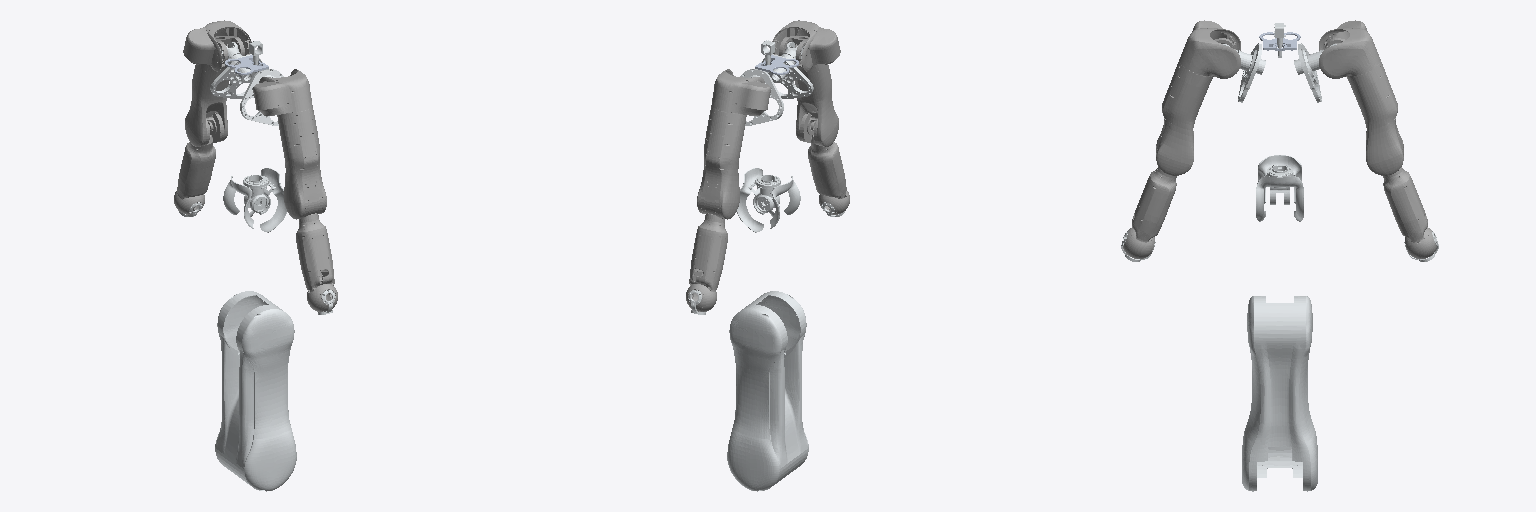
--- What the picture shows (computed from the rendered views, not written in the file) ---
Views: 3 orthographic renders of the robot side by side, from view 1: azimuth 30°, elevation 25°; view 2: azimuth 150°, elevation 25°; view 3: azimuth 270°, elevation 25°.
Robot: astribot_whole_body — 29 links, 28 joints (20 revolute, 8 fixed); root link astribot_torso_base; default pose: every joint at zero.
Visible links, largest first — view 1: astribot_torso_link_1, astribot_arm_right_link_3, astribot_arm_right_link_5, astribot_arm_left_link_3, astribot_torso_link_3, astribot_arm_left_link_2, astribot_arm_right_link_2, astribot_arm_left_link_5, astribot_arm_right_base_link, astribot_arm_left_base_link; view 2: astribot_torso_link_1, astribot_arm_left_link_3, astribot_arm_left_link_5, astribot_arm_right_link_3, astribot_torso_link_3, astribot_arm_right_link_2, astribot_arm_left_link_2, astribot_arm_right_link_5, astribot_arm_left_base_link, astribot_arm_right_base_link; view 3: astribot_torso_link_1, astribot_arm_left_link_3, astribot_arm_right_link_3, astribot_arm_left_link_2, astribot_arm_right_link_2, astribot_arm_left_link_5, astribot_arm_right_link_5, astribot_torso_link_3, astribot_arm_left_base_link, astribot_arm_right_base_link.
Boxes of the visible links, x1=… form: astribot_torso_link_1: x1=215, y1=291, x2=296, y2=491; astribot_arm_right_link_3: x1=277, y1=107, x2=326, y2=219; astribot_arm_right_link_5: x1=296, y1=219, x2=337, y2=310; astribot_arm_left_link_3: x1=185, y1=64, x2=229, y2=146; astribot_torso_link_3: x1=223, y1=168, x2=286, y2=232; astribot_arm_left_link_2: x1=183, y1=20, x2=251, y2=71; astribot_arm_right_link_2: x1=253, y1=69, x2=312, y2=115; astribot_arm_left_link_5: x1=174, y1=142, x2=215, y2=213; astribot_arm_right_base_link: x1=240, y1=69, x2=283, y2=125; astribot_arm_left_base_link: x1=210, y1=54, x2=261, y2=98; astribot_torso_link_1: x1=727, y1=291, x2=808, y2=491; astribot_arm_left_link_3: x1=697, y1=107, x2=746, y2=219; astribot_arm_left_link_5: x1=686, y1=219, x2=727, y2=310; astribot_arm_right_link_3: x1=794, y1=64, x2=838, y2=146; astribot_torso_link_3: x1=737, y1=168, x2=800, y2=232; astribot_arm_right_link_2: x1=772, y1=20, x2=840, y2=71; astribot_arm_left_link_2: x1=711, y1=69, x2=770, y2=115; astribot_arm_right_link_5: x1=808, y1=142, x2=849, y2=213; astribot_arm_left_base_link: x1=740, y1=69, x2=783, y2=125; astribot_arm_right_base_link: x1=762, y1=54, x2=813, y2=98; astribot_torso_link_1: x1=1242, y1=296, x2=1317, y2=491; astribot_arm_left_link_3: x1=1346, y1=60, x2=1403, y2=175; astribot_arm_right_link_3: x1=1156, y1=60, x2=1213, y2=175; astribot_arm_left_link_2: x1=1319, y1=20, x2=1380, y2=78; astribot_arm_right_link_2: x1=1179, y1=20, x2=1240, y2=78; astribot_arm_left_link_5: x1=1383, y1=169, x2=1434, y2=258; astribot_arm_right_link_5: x1=1125, y1=169, x2=1176, y2=258; astribot_torso_link_3: x1=1256, y1=155, x2=1303, y2=221; astribot_arm_left_base_link: x1=1298, y1=43, x2=1321, y2=102; astribot_arm_right_base_link: x1=1238, y1=43, x2=1261, y2=102.
Size in the robot's own frame: 0.1943 by 0.8328 by 1.34 metres.
Meshes: 18 distinct files referenced, 20 mesh visuals loaded (14 binary STL); not drawn: 4 (reference not matched to a file when rendering).

URDF robot description (astribot_whole_body):
<?xml version="1.0" ?>
<!-- =================================================================================== -->
<!-- |    This document was autogenerated by xacro from astribot_s1_whole_body_without_wheel.xacro | -->
<!-- |    EDITING THIS FILE BY HAND IS NOT RECOMMENDED                                 | -->
<!-- =================================================================================== -->
<!-- run: xacro astribot_s1_whole_body.xacro -o astribot_s1_whole_body.urdf to generate the following .urdf file -->
<robot name="astribot_whole_body">
  <link name="astribot_torso_base">
    <inertial>
      <origin rpy="0 0 0" xyz="-0.062784 0.007017 0.035375"/>
      <mass value="39.24781"/>
      <inertia ixx="1.071997" ixy="0.015889" ixz="-0.058447" iyy="1.218431" iyz="-0.002015" izz="1.489411"/>
    </inertial>
    <visual>
      <origin rpy="0 0 0" xyz="0 0 0"/>
      <geometry>
        <mesh filename="s1_torso/astribot_torso_base_link.STL"/>
      </geometry>
      <material name="">
        <color rgba="0.79216 0.81961 0.93333 1"/>
      </material>
    </visual>
    <collision>
      <origin rpy="0 0 0" xyz="0 0 -0.05"/>
      <geometry>
        <cylinder length="0.1" radius="0.3"/>
      </geometry>
    </collision>
  </link>
  <link name="astribot_torso_link_1">
    <inertial>
      <origin rpy="0 0 0" xyz="-0.15249 0.00021066 -0.0033476"/>
      <mass value="7.3766"/>
      <inertia ixx="0.028834" ixy="-0.0052759" ixz="0.00010767" iyy="0.1483" iyz="1.1652E-05" izz="0.14268"/>
    </inertial>
    <visual>
      <origin rpy="0 0 0" xyz="0 0 0"/>
      <geometry>
        <mesh filename="s1_torso/astribot_torso_link_1.STL"/>
      </geometry>
      <material name="">
        <color rgba="0.89804 0.91765 0.92941 1"/>
      </material>
    </visual>
    <collision>
      <origin rpy="0 1.57 0" xyz="-0.15 0 0"/>
      <geometry>
        <cylinder length="0.3" radius="0.1"/>
      </geometry>
    </collision>
  </link>
  <joint name="astribot_torso_joint_1" type="revolute">
    <origin rpy="-1.5708 1.5708 0" xyz="0 0 0.12"/>
    <parent link="astribot_torso_base"/>
    <child link="astribot_torso_link_1"/>
    <axis xyz="0 0 1"/>
    <limit effort="100" lower="0.0" upper="1.4" velocity="6.0"/>
  </joint>
  <link name="astribot_torso_link_2">
    <inertial>
      <origin rpy="0 0 0" xyz="-0.22214 0.028873 0.00059024"/>
      <mass value="5.6183"/>
      <inertia ixx="0.0082545" ixy="0.0011523" ixz="0.00035614" iyy="0.012677" iyz="-5.8287E-05" izz="0.017512"/>
    </inertial>
    <visual>
      <origin rpy="0 0 0" xyz="0 0 0"/>
      <geometry>
        <mesh filename="s1_torso/astribot_torso_link_2.STL"/>
      </geometry>
      <material name="">
        <color rgba="0.89804 0.91765 0.92941 1"/>
      </material>
    </visual>
    <collision>
      <origin rpy="0 1.57 -0.25" xyz="-0.15 0.03 0"/>
      <geometry>
        <cylinder length="0.3" radius="0.1"/>
      </geometry>
    </collision>
  </link>
  <joint name="astribot_torso_joint_2" type="revolute">
    <origin rpy="0 0 0" xyz="-0.38 0 0"/>
    <parent link="astribot_torso_link_1"/>
    <child link="astribot_torso_link_2"/>
    <axis xyz="0 0 1"/>
    <limit effort="100" lower="-2.3" upper="0.0" velocity="6.0"/>
  </joint>
  <link name="astribot_torso_link_3">
    <inertial>
      <origin rpy="0 0 0" xyz="-0.017519 0.00059523 0.00025821"/>
      <mass value="0.49013"/>
      <inertia ixx="0.00022212" ixy="-2.6767E-07" ixz="4.3987E-07" iyy="0.00036522" iyz="3.8834E-07" izz="0.00038039"/>
    </inertial>
    <visual>
      <origin rpy="0 0 0" xyz="0 0 0"/>
      <geometry>
        <mesh filename="s1_torso/astribot_torso_link_3.STL"/>
      </geometry>
      <material name="">
        <color rgba="0.89804 0.91765 0.92941 1"/>
      </material>
    </visual>
    <collision>
      <origin rpy="0 1.57 0" xyz="-0.18 0.01 0"/>
      <geometry>
        <cylinder length="0.35" radius="0.09"/>
      </geometry>
    </collision>
  </link>
  <joint name="astribot_torso_joint_3" type="revolute">
    <origin rpy="0 0 0" xyz="-0.390 0 0"/>
    <parent link="astribot_torso_link_2"/>
    <child link="astribot_torso_link_3"/>
    <axis xyz="0 0 1"/>
    <limit effort="100" lower="0.0" upper="2.3" velocity="6.0"/>
  </joint>
  <link name="astribot_torso_link_4">
    <inertial>
      <origin rpy="0 0 0" xyz="0.00476227191516749 -4.56966810241128E-05 0.242912573510671"/>
      <mass value="3.55695635704638"/>
      <inertia ixx="0.0165768322563514" ixy="-9.94098112646385E-06" ixz="-0.000100011483384926" iyy="0.014904355097835" iyz="9.86752047032885E-07" izz="0.0110629318711333"/>
    </inertial>
    <visual>
      <origin rpy="0 0 0" xyz="0 0 0"/>
      <geometry>
        <mesh filename="s1_torso/astribot_torso_link_4.STL"/>
      </geometry>
      <material name="">
        <color rgba="0.898039215686275 0.917647058823529 0.929411764705882 1"/>
      </material>
    </visual>
  </link>
  <joint name="astribot_torso_joint_4" type="revolute">
    <origin rpy="1.5708 0 -1.5708" xyz="0 0 0"/>
    <parent link="astribot_torso_link_3"/>
    <child link="astribot_torso_link_4"/>
    <axis xyz="0 0 1"/>
    <limit effort="100" lower="-1.5" upper="1.5" velocity="6.0"/>
  </joint>
  <link name="astribot_torso_end_effector">
    <inertial>
      <origin rpy="0 0 0" xyz="0 0 0"/>
      <mass value="0"/>
      <inertia ixx="0" ixy="0" ixz="0" iyy="0" iyz="0" izz="0"/>
    </inertial>
  </link>
  <joint name="astribot_torso_end_effector_fixed_joint" type="fixed">
    <origin rpy="0.0 0.0 0.0" xyz="0 0 0.34475"/>
    <parent link="astribot_torso_link_4"/>
    <child link="astribot_torso_end_effector"/>
  </joint>
  <link name="astribot_head_base_link">
    <inertial>
      <origin rpy="0 0 0" xyz="-0.02816247 -0.00023176 -0.05211965"/>
      <mass value="0.39541440"/>
      <inertia ixx="0.00036025" ixy="-0.00003505" ixz="0.00004865" iyy="0.00049377" iyz="0.00000243" izz="0.00074441"/>
    </inertial>
    <visual>
      <origin rpy="0 0 0" xyz="0 0 0"/>
      <geometry>
        <mesh filename="s1_head/astribot_head_base_link.STL"/>
      </geometry>
      <material name="">
        <color rgba="0.807843137254902 0.843137254901961 0.905882352941176 1"/>
      </material>
    </visual>
  </link>
  <link name="astribot_head_link_1">
    <inertial>
      <origin rpy="0 0 0" xyz="0.00003191 -0.00038566 -0.02579910"/>
      <mass value="0.13910581"/>
      <inertia ixx="0.00004567" ixy="0.00000003" ixz="0.00000004" iyy="0.00004789" iyz="-0.00000091" izz="0.00003779"/>
    </inertial>
    <visual>
      <origin rpy="0 0 0" xyz="0 0 0"/>
      <geometry>
        <mesh filename="s1_head/astribot_head_link_1.STL"/>
      </geometry>
      <material name="">
        <color rgba="0.898039215686275 0.917647058823529 0.929411764705882 1"/>
      </material>
    </visual>
  </link>
  <joint name="astribot_head_joint_1" type="revolute">
    <origin rpy="0 0 0" xyz="0 0 0"/>
    <parent link="astribot_head_base_link"/>
    <child link="astribot_head_link_1"/>
    <axis xyz="0 0 1"/>
    <limit effort="100" lower="-1.57" upper="1.57" velocity="4.0"/>
  </joint>
  <link name="astribot_head_link_2">
    <inertial>
      <origin rpy="0 0 0" xyz="0.00705824 -0.14472601 -0.00061724"/>
      <mass value="0.97012447"/>
      <inertia ixx="0.00555660" ixy="-0.00041600" ixz="-0.00000036" iyy="0.00151908" iyz="-0.00012043" izz="0.00544493"/>
    </inertial>
    <visual>
      <origin rpy="0 0 0" xyz="0 0 0"/>
      <geometry>
        <mesh filename="s1_head/astribot_head_link_2.STL"/>
      </geometry>
      <material name="">
        <color rgba="0.807843137254902 0.843137254901961 0.905882352941176 1"/>
      </material>
    </visual>
    <collision>
      <origin rpy="0 0 0" xyz="0 -0.15 0"/>
      <geometry>
        <sphere radius="0.11"/>
      </geometry>
    </collision>
  </link>
  <joint name="astribot_head_joint_2" type="revolute">
    <origin rpy="-1.5708 0 0" xyz="0 0 0"/>
    <parent link="astribot_head_link_1"/>
    <child link="astribot_head_link_2"/>
    <axis xyz="0 0 1"/>
    <limit effort="100" lower="-1.22" upper="1.22" velocity="4.0"/>
  </joint>
  <link name="astribot_arm_left_base_link">
    <inertial>
      <origin rpy="0 0 0" xyz="-0.04309067 -0.01849796 -0.01384838"/>
      <mass value="2.22887320"/>
      <inertia ixx="0.00386389" ixy="-0.00050396" ixz="0.00025566" iyy="0.00306042" iyz="0.00019224" izz="0.00570294"/>
    </inertial>
    <visual>
      <origin rpy="0 0 0" xyz="0 0 0"/>
      <geometry>
        <mesh filename="s1_arm/astribot_arm_left_base_link.STL"/>
      </geometry>
      <material name="">
        <color rgba="0.898039215686275 0.917647058823529 0.929411764705882 1"/>
      </material>
    </visual>
  </link>
  <link name="astribot_arm_left_link_1">
    <inertial>
      <origin rpy="0 0 0" xyz="0.00012026 0.00047499 -0.05682561"/>
      <mass value="0.59936716"/>
      <inertia ixx="0.00064791" ixy="0.00000149" ixz="0.00000133" iyy="0.00065264" iyz="0.00000160" izz="0.00050137"/>
    </inertial>
    <visual>
      <origin rpy="0 0 0" xyz="0 0 0"/>
      <geometry>
        <mesh filename="s1_arm/astribot_arm_link_1.STL"/>
      </geometry>
      <material name="">
        <color rgba="0.898039215686275 0.917647058823529 0.929411764705882 1"/>
      </material>
    </visual>
  </link>
  <joint name="astribot_arm_left_joint_1" type="revolute">
    <origin rpy="0 0 0" xyz="0 0 0.091"/>
    <parent link="astribot_arm_left_base_link"/>
    <child link="astribot_arm_left_link_1"/>
    <axis xyz="0 0 1"/>
    <limit effort="265" lower="-3.0" upper="3.0" velocity="8.4"/>
  </joint>
  <link name="astribot_arm_left_link_2">
    <inertial>
      <origin rpy="0 0 0" xyz="-0.00396228 0.03490708 0.04270156"/>
      <mass value="1.43694657"/>
      <inertia ixx="0.00360751" ixy="-0.00009193" ixz="0.00007764" iyy="0.00283747" iyz="0.00054945" izz="0.00172927"/>
    </inertial>
    <visual>
      <origin rpy="0 0 0" xyz="0 0 0"/>
      <geometry>
        <mesh filename="s1_arm/astribot_arm_left_link_2.STL"/>
      </geometry>
      <material name="">
        <color rgba="0.698039215686274 0.698039215686274 0.698039215686274 1"/>
      </material>
    </visual>
  </link>
  <joint name="astribot_arm_left_joint_2" type="revolute">
    <origin rpy="1.5708 0 0" xyz="0 0 0"/>
    <parent link="astribot_arm_left_link_1"/>
    <child link="astribot_arm_left_link_2"/>
    <axis xyz="0 0 1"/>
    <limit effort="265" lower="-1.4" upper="0.4" velocity="8.4"/>
  </joint>
  <link name="astribot_arm_left_link_3">
    <inertial>
      <origin rpy="0 0 0" xyz="0.00531263 0.00020707 0.16136713"/>
      <mass value="2.0926399"/>
      <inertia ixx="0.01752179" ixy="2.336e-05" ixz="0.00144018" iyy="0.01784671" iyz="-3.027e-05" izz="0.0021843"/>
    </inertial>
    <visual>
      <origin rpy="0 0 0" xyz="0 0 0"/>
      <geometry>
        <mesh filename="s1_arm/astribot_arm_link_3.STL"/>
      </geometry>
      <material name="">
        <color rgba="0.698039215686274 0.698039215686274 0.698039215686274 1"/>
      </material>
    </visual>
    <collision>
      <origin rpy="0 0 0" xyz="0 0 0.15"/>
      <geometry>
        <cylinder length="0.18" radius="0.05"/>
      </geometry>
    </collision>
  </link>
  <joint name="astribot_arm_left_joint_3" type="revolute">
    <origin rpy="1.5708 0 -1.5708" xyz="0 0.05 0"/>
    <parent link="astribot_arm_left_link_2"/>
    <child link="astribot_arm_left_link_3"/>
    <axis xyz="0 0 1"/>
    <limit effort="132" lower="-3.0" upper="1.4" velocity="8.4"/>
  </joint>
  <link name="astribot_arm_left_link_4">
    <inertial>
      <origin rpy="0 0 0" xyz="0.00017294 -0.01269315 0.00196140"/>
      <mass value="0.36587933"/>
      <inertia ixx="0.00047693" ixy="0.00000635" ixz=" 0.00000135" iyy="0.00036801" iyz="0.00000705" izz="0.00050082"/>
    </inertial>
    <visual>
      <origin rpy="0 0 0" xyz="0 0 0"/>
      <geometry>
        <mesh filename="s1_arm/astribot_arm_link_4.STL"/>
      </geometry>
      <material name="">
        <color rgba="0.698039215686274 0.698039215686274 0.698039215686274 1"/>
      </material>
    </visual>
    <collision>
      <origin rpy="0 0 0" xyz="0 0 0"/>
      <geometry>
        <sphere radius="0.06"/>
      </geometry>
    </collision>
  </link>
  <joint name="astribot_arm_left_joint_4" type="revolute">
    <origin rpy="-1.5708 0 0" xyz="0.03 0 0.309"/>
    <parent link="astribot_arm_left_link_3"/>
    <child link="astribot_arm_left_link_4"/>
    <axis xyz="0 0 1"/>
    <limit effort="142" lower="0.0" upper="2.4" velocity="15"/>
  </joint>
  <link name="astribot_arm_left_link_5">
    <inertial>
      <origin rpy="0 0 0" xyz="-0.00032037 -0.00015185 0.15370447"/>
      <mass value="1.24085064"/>
      <inertia ixx="0.00454092" ixy="1.58e-06" ixz="-5.91e-06" iyy="0.00438922" iyz="-4.927e-05" izz="0.00079442"/>
    </inertial>
    <visual>
      <origin rpy="0 0 0" xyz="0 0 0"/>
      <geometry>
        <mesh filename="s1_arm/astribot_arm_link_5.STL"/>
      </geometry>
      <material name="">
        <color rgba="0.698039215686274 0.698039215686274 0.698039215686274 1"/>
      </material>
    </visual>
    <collision>
      <origin rpy="0 0 0" xyz="0 0 0.14"/>
      <geometry>
        <cylinder length="0.14" radius="0.05"/>
      </geometry>
    </collision>
  </link>
  <joint name="astribot_arm_left_joint_5" type="revolute">
    <origin rpy="1.5708 0 0" xyz="0 0 0"/>
    <parent link="astribot_arm_left_link_4"/>
    <child link="astribot_arm_left_link_5"/>
    <axis xyz="0 0 1"/>
    <limit effort="71" lower="-2.0" upper="2.0" velocity="15"/>
  </joint>
  <link name="astribot_arm_left_link_6">
    <inertial>
      <origin rpy="0 0 0" xyz="-0.00010311 0.00001218 0.00013181"/>
      <mass value="0.22465307"/>
      <inertia ixx="0.00016474" ixy="0.00000007" ixz="0.00000025" iyy="0.00015608" iyz="0.00000018" izz="0.00008555"/>
    </inertial>
    <visual>
      <origin rpy="0 0 0" xyz="0 0 0"/>
      <geometry>
        <mesh filename="s1_arm/astribot_arm_link_6.STL"/>
      </geometry>
      <material name="">
        <color rgba="0.698039215686274 0.698039215686274 0.698039215686274 1"/>
      </material>
    </visual>
  </link>
  <joint name="astribot_arm_left_joint_6" type="revolute">
    <origin rpy="-1.5708 0 0" xyz="0 0 0.277"/>
    <parent link="astribot_arm_left_link_5"/>
    <child link="astribot_arm_left_link_6"/>
    <axis xyz="0 0 1"/>
    <limit effort="20" lower="-0.6" upper="0.6" velocity="16.8"/>
  </joint>
  <link name="astribot_arm_left_link_7">
    <inertial>
      <origin rpy="0 0 0" xyz="4.333e-05 -0.00723447 -0.00362428"/>
      <mass value="0.12772019"/>
      <inertia ixx="0.00013672" ixy="1.6e-07" ixz="-2.4e-07" iyy="0.00010783" iyz="-3.35e-06" izz="5.858e-05"/>
    </inertial>
    <visual>
      <origin rpy="0 0 0" xyz="0 0 0"/>
      <geometry>
        <mesh filename="s1_arm/astribot_arm_link_7.STL"/>
      </geometry>
      <material name="">
        <color rgba="0.898039215686275 0.917647058823529 0.929411764705882 1"/>
      </material>
    </visual>
    <collision>
      <origin rpy="0 0 0" xyz="0.006 0 0"/>
      <geometry>
        <sphere radius="0.05"/>
      </geometry>
    </collision>
  </link>
  <joint name="astribot_arm_left_joint_7" type="revolute">
    <origin rpy="0 1.5708 0" xyz="0 0 0"/>
    <parent link="astribot_arm_left_link_6"/>
    <child link="astribot_arm_left_link_7"/>
    <axis xyz="0 0 1"/>
    <limit effort="20" lower="-1.4" upper="1.4" velocity="16.8"/>
  </joint>
  <link name="astribot_arm_left_tool_link">
    <inertial>
      <origin rpy="0 0 0" xyz=" -0.00019766 -0.10719761 0.00190898"/>
      <mass value="0.64762850"/>
      <inertia ixx="0.00152446" ixy="0.00000144" ixz="-0.00000058" iyy="0.00033076" iyz="0.00004144" izz="0.00156453"/>
    </inertial>
  </link>
  <joint name="astribot_arm_left_tool_joint" type="fixed">
    <origin rpy="0 0 0" xyz="0 0 0"/>
    <parent link="astribot_arm_left_link_7"/>
    <child link="astribot_arm_left_tool_link"/>
  </joint>
  <link name="astribot_arm_left_end_effector">
    <inertial>
      <origin rpy="0 0 0" xyz="0 0 0"/>
      <mass value="0"/>
      <inertia ixx="0" ixy="0" ixz="0" iyy="0" iyz="0" izz="0"/>
    </inertial>
  </link>
  <joint name="astribot_arm_left_ee_joint" type="fixed">
    <origin rpy="0 0 0" xyz="0 -0.15 0"/>
    <parent link="astribot_arm_left_tool_link"/>
    <child link="astribot_arm_left_end_effector"/>
  </joint>
  <link name="astribot_arm_right_base_link">
    <inertial>
      <origin rpy="0 0 0" xyz="-0.04450932 0.01988693 0.00162589"/>
      <mass value="2.22887320"/>
      <inertia ixx="0.00396811" ixy="0.00041290" ixz="-0.00033387" iyy="0.00304615" iyz="-0.00021572" izz="0.00574641"/>
    </inertial>
    <visual>
      <origin rpy="0 0 0" xyz="0 0 0"/>
      <geometry>
        <mesh filename="s1_arm/astribot_arm_right_base_link.STL"/>
      </geometry>
      <material name="">
        <color rgba="0.898039215686275 0.917647058823529 0.929411764705882 1"/>
      </material>
    </visual>
  </link>
  <link name="astribot_arm_right_link_1">
    <inertial>
      <origin rpy="0 0 0" xyz="0.00012026 0.00047499 -0.05682561"/>
      <mass value="0.59936716"/>
      <inertia ixx="0.00064791" ixy="0.00000149" ixz="0.00000133" iyy="0.00065264" iyz="0.00000160" izz="0.00050137"/>
    </inertial>
    <visual>
      <origin rpy="0 0 0" xyz="0 0 0"/>
      <geometry>
        <mesh filename="s1_arm/astribot_arm_link_1.STL"/>
      </geometry>
      <material name="">
        <color rgba="0.898039215686275 0.917647058823529 0.929411764705882 1"/>
      </material>
    </visual>
  </link>
  <joint name="astribot_arm_right_joint_1" type="revolute">
    <origin rpy="0 0 0" xyz="0 0 0.091"/>
    <parent link="astribot_arm_right_base_link"/>
    <child link="astribot_arm_right_link_1"/>
    <axis xyz="0 0 1"/>
    <limit effort="265" lower="-3.0" upper="3.0" velocity="8.4"/>
  </joint>
  <link name="astribot_arm_right_link_2">
    <inertial>
      <origin rpy="0 0 0" xyz="-0.00384709 0.03502105 -0.04050705"/>
      <mass value="1.45811037"/>
      <inertia ixx="0.00394196" ixy="-8.846e-05" ixz="-3.742e-05" iyy="0.00316298" iyz="-0.0007079" izz="0.00177295"/>
    </inertial>
    <visual>
      <origin rpy="0 0 0" xyz="0 0 0"/>
      <geometry>
        <mesh filename="s1_arm/astribot_arm_right_link_2.STL"/>
      </geometry>
      <material name="">
        <color rgba="0.698039215686274 0.698039215686274 0.698039215686274 1"/>
      </material>
    </visual>
  </link>
  <joint name="astribot_arm_right_joint_2" type="revolute">
    <origin rpy="1.5708 0 0" xyz="0 0 0"/>
    <parent link="astribot_arm_right_link_1"/>
    <child link="astribot_arm_right_link_2"/>
    <axis xyz="0 0 1"/>
    <limit effort="265" lower="-1.4" upper="0.4" velocity="8.4"/>
  </joint>
  <link name="astribot_arm_right_link_3">
    <inertial>
      <origin rpy="0 0 0" xyz="0.00531263 0.00020707 0.16136713"/>
      <mass value="2.0926399"/>
      <inertia ixx="0.01752179" ixy="2.336e-05" ixz="0.00144018" iyy="0.01784671" iyz="-3.027e-05" izz="0.0021843"/>
    </inertial>
    <visual>
      <origin rpy="0 0 0" xyz="0 0 0"/>
      <geometry>
        <mesh filename="s1_arm/astribot_arm_link_3.STL"/>
      </geometry>
      <material name="">
        <color rgba="0.698039215686274 0.698039215686274 0.698039215686274 1"/>
      </material>
    </visual>
    <collision>
      <origin rpy="0 0 0" xyz="0 0 0.15"/>
      <geometry>
        <cylinder length="0.18" radius="0.05"/>
      </geometry>
    </collision>
  </link>
  <joint name="astribot_arm_right_joint_3" type="revolute">
    <origin rpy="1.5708 0 -1.5708" xyz="0 0.05 0"/>
    <parent link="astribot_arm_right_link_2"/>
    <child link="astribot_arm_right_link_3"/>
    <axis xyz="0 0 1"/>
    <limit effort="132" lower="-1.4" upper="3.0" velocity="8.4"/>
  </joint>
  <link name="astribot_arm_right_link_4">
    <inertial>
      <origin rpy="0 0 0" xyz="0.00017294 -0.01269315 0.00196140"/>
      <mass value="0.36587933"/>
      <inertia ixx="0.00047693" ixy="0.00000635" ixz=" 0.00000135" iyy="0.00036801" iyz="0.00000705" izz="0.00050082"/>
    </inertial>
    <visual>
      <origin rpy="0 0 0" xyz="0 0 0"/>
      <geometry>
        <mesh filename="s1_arm/astribot_arm_link_4.STL"/>
      </geometry>
      <material name="">
        <color rgba="0.698039215686274 0.698039215686274 0.698039215686274 1"/>
      </material>
    </visual>
    <collision>
      <origin rpy="0 0 0" xyz="0 0 0"/>
      <geometry>
        <sphere radius="0.06"/>
      </geometry>
    </collision>
  </link>
  <joint name="astribot_arm_right_joint_4" type="revolute">
    <origin rpy="-1.5708 0 0" xyz="0.03 0 0.309"/>
    <parent link="astribot_arm_right_link_3"/>
    <child link="astribot_arm_right_link_4"/>
    <axis xyz="0 0 1"/>
    <limit effort="142" lower="0.0" upper="2.4" velocity="15"/>
  </joint>
  <link name="astribot_arm_right_link_5">
    <inertial>
      <origin rpy="0 0 0" xyz="-0.00032037 -0.00015185 0.15370447"/>
      <mass value="1.24085064"/>
      <inertia ixx="0.00454092" ixy="1.58e-06" ixz="-5.91e-06" iyy="0.00438922" iyz="-4.927e-05" izz="0.00079442"/>
    </inertial>
    <visual>
      <origin rpy="0 0 0" xyz="0 0 0"/>
      <geometry>
        <mesh filename="s1_arm/astribot_arm_link_5.STL"/>
      </geometry>
      <material name="">
        <color rgba="0.698039215686274 0.698039215686274 0.698039215686274 1"/>
      </material>
    </visual>
    <collision>
      <origin rpy="0 0 0" xyz="0 0 0.14"/>
      <geometry>
        <cylinder length="0.14" radius="0.05"/>
      </geometry>
    </collision>
  </link>
  <joint name="astribot_arm_right_joint_5" type="revolute">
    <origin rpy="1.5708 0 0" xyz="0 0 0"/>
    <parent link="astribot_arm_right_link_4"/>
    <child link="astribot_arm_right_link_5"/>
    <axis xyz="0 0 1"/>
    <limit effort="71" lower="-2.0" upper="2.0" velocity="15"/>
  </joint>
  <link name="astribot_arm_right_link_6">
    <inertial>
      <origin rpy="0 0 0" xyz="-0.00010311 0.00001218 0.00013181"/>
      <mass value="0.22465307"/>
      <inertia ixx="0.00016474" ixy="0.00000007" ixz="0.00000025" iyy="0.00015608" iyz="0.00000018" izz="0.00008555"/>
    </inertial>
    <visual>
      <origin rpy="0 0 0" xyz="0 0 0"/>
      <geometry>
        <mesh filename="s1_arm/astribot_arm_link_6.STL"/>
      </geometry>
      <material name="">
        <color rgba="0.698039215686274 0.698039215686274 0.698039215686274 1"/>
      </material>
    </visual>
  </link>
  <joint name="astribot_arm_right_joint_6" type="revolute">
    <origin rpy="-1.5708 0 0" xyz="0 0 0.277"/>
    <parent link="astribot_arm_right_link_5"/>
    <child link="astribot_arm_right_link_6"/>
    <axis xyz="0 0 1"/>
    <limit effort="20" lower="-0.6" upper="0.6" velocity="16.8"/>
  </joint>
  <link name="astribot_arm_right_link_7">
    <inertial>
      <origin rpy="0 0 0" xyz="4.333e-05 -0.00723447 -0.00362428"/>
      <mass value="0.12772019"/>
      <inertia ixx="0.00013672" ixy="1.6e-07" ixz="-2.4e-07" iyy="0.00010783" iyz="-3.35e-06" izz="5.858e-05"/>
    </inertial>
    <visual>
      <origin rpy="0 0 0" xyz="0 0 0"/>
      <geometry>
        <mesh filename="s1_arm/astribot_arm_link_7.STL"/>
      </geometry>
      <material name="">
        <color rgba="0.898039215686275 0.917647058823529 0.929411764705882 1"/>
      </material>
    </visual>
    <collision>
      <origin rpy="0 0 0" xyz="0.006 0 0"/>
      <geometry>
        <sphere radius="0.05"/>
      </geometry>
    </collision>
  </link>
  <joint name="astribot_arm_right_joint_7" type="revolute">
    <origin rpy="0 1.5708 0" xyz="0 0 0"/>
    <parent link="astribot_arm_right_link_6"/>
    <child link="astribot_arm_right_link_7"/>
    <axis xyz="0 0 1"/>
    <limit effort="20" lower="-1.4" upper="1.4" velocity="16.8"/>
  </joint>
  <link name="astribot_arm_right_tool_link">
    <inertial>
      <origin rpy="0 0 0" xyz=" -0.00019766 -0.10719761 0.00190898"/>
      <mass value="0.64762850"/>
      <inertia ixx="0.00152446" ixy="0.00000144" ixz="-0.00000058" iyy="0.00033076" iyz="0.00004144" izz="0.00156453"/>
    </inertial>
  </link>
  <joint name="astribot_arm_right_tool_joint" type="fixed">
    <origin rpy="0 0 0" xyz="0 0 0"/>
    <parent link="astribot_arm_right_link_7"/>
    <child link="astribot_arm_right_tool_link"/>
  </joint>
  <link name="astribot_arm_right_end_effector">
    <inertial>
      <origin rpy="0 0 0" xyz="0 0 0"/>
      <mass value="0"/>
      <inertia ixx="0" ixy="0" ixz="0" iyy="0" iyz="0" izz="0"/>
    </inertial>
  </link>
  <joint name="astribot_arm_right_ee_joint" type="fixed">
    <origin rpy="0 0 0" xyz="0 -0.15 0"/>
    <parent link="astribot_arm_right_tool_link"/>
    <child link="astribot_arm_right_end_effector"/>
  </joint>
  <joint name="astribot_head_fixed_joint" type="fixed">
    <parent link="astribot_torso_end_effector"/>
    <child link="astribot_head_base_link"/>
    <origin rpy="0 0 0" xyz="0 0 0.1229"/>
  </joint>
  <joint name="astribot_arm_left_base_fixed_joint" type="fixed">
    <parent link="astribot_torso_end_effector"/>
    <child link="astribot_arm_left_base_link"/>
    <origin rpy="0 -1.22173 -1.5707963" xyz="0 0.06449 0.02348"/>
  </joint>
  <joint name="astribot_arm_right_base_fixed_joint" type="fixed">
    <parent link="astribot_torso_end_effector"/>
    <child link="astribot_arm_right_base_link"/>
    <origin rpy="0 -1.22173 1.5707963" xyz="0 -0.06449 0.02348"/>
  </joint>
</robot>
